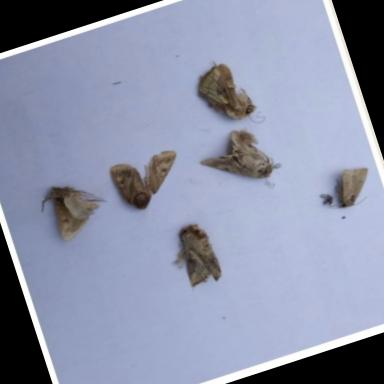abw: (186, 54, 268, 141), (196, 124, 284, 198), (105, 144, 191, 219), (34, 173, 112, 247), (162, 218, 224, 294), (324, 164, 378, 218)
